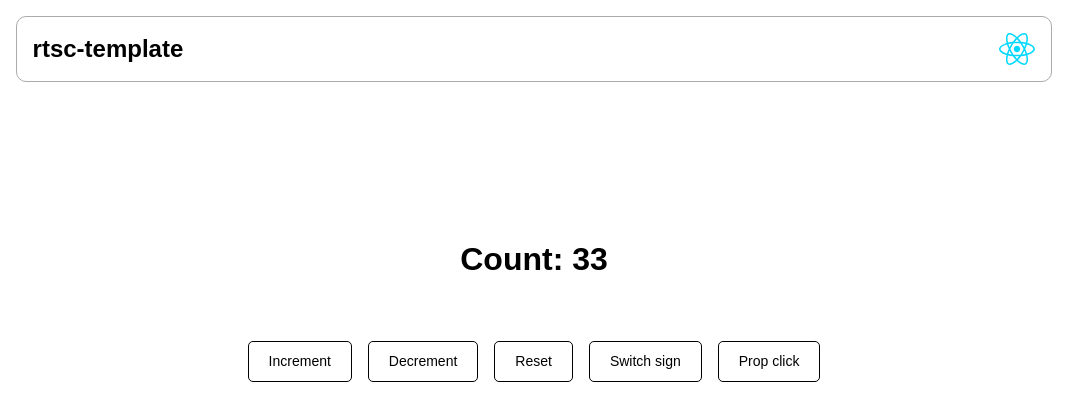
Test: Counter › Count should invert sign if the Switch sign button is clicked
Expected: the text with test id "count" reads "33", top-left (572, 241), bottom-right (608, 277)
Click the button "Switch sign".
click(645, 361)  # box top-left (589, 341), bottom-right (702, 382)
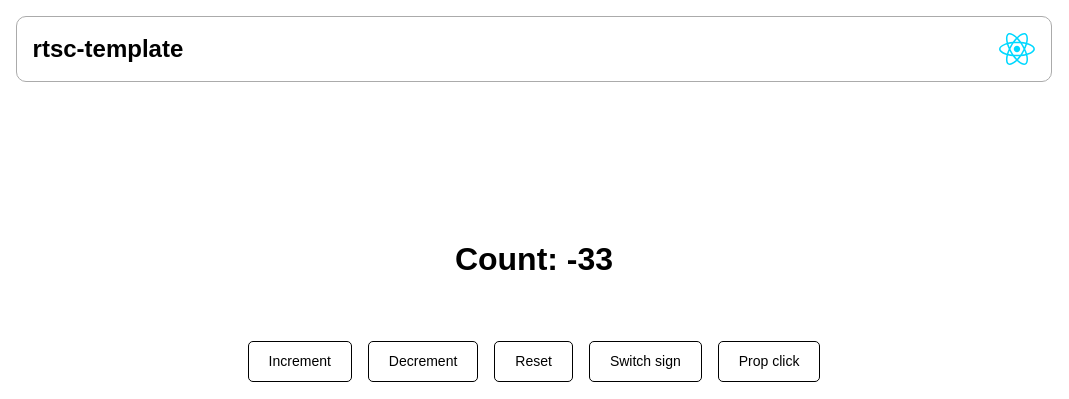
Now the text with test id "count" reads "-33", box top-left (567, 241), bottom-right (613, 277)
Click the button "Switch sign".
click(645, 361)  # box top-left (589, 341), bottom-right (702, 382)
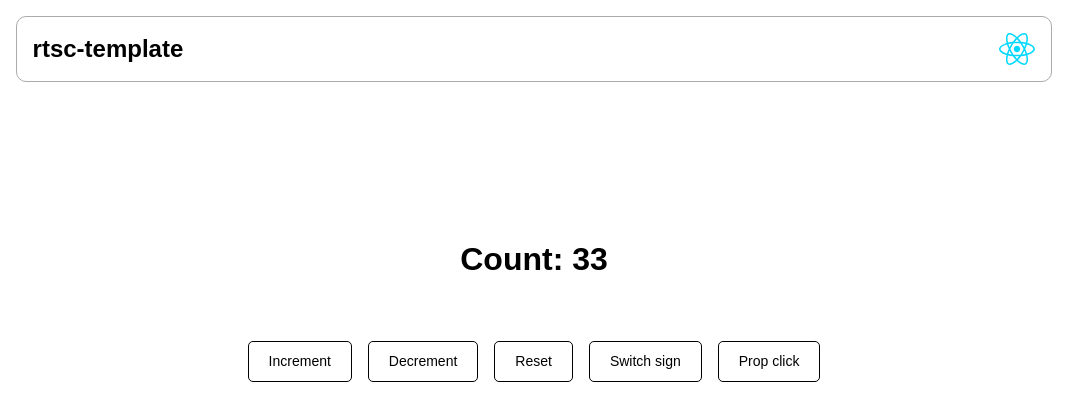
Now the text with test id "count" reads "33", box top-left (572, 241), bottom-right (608, 277)
